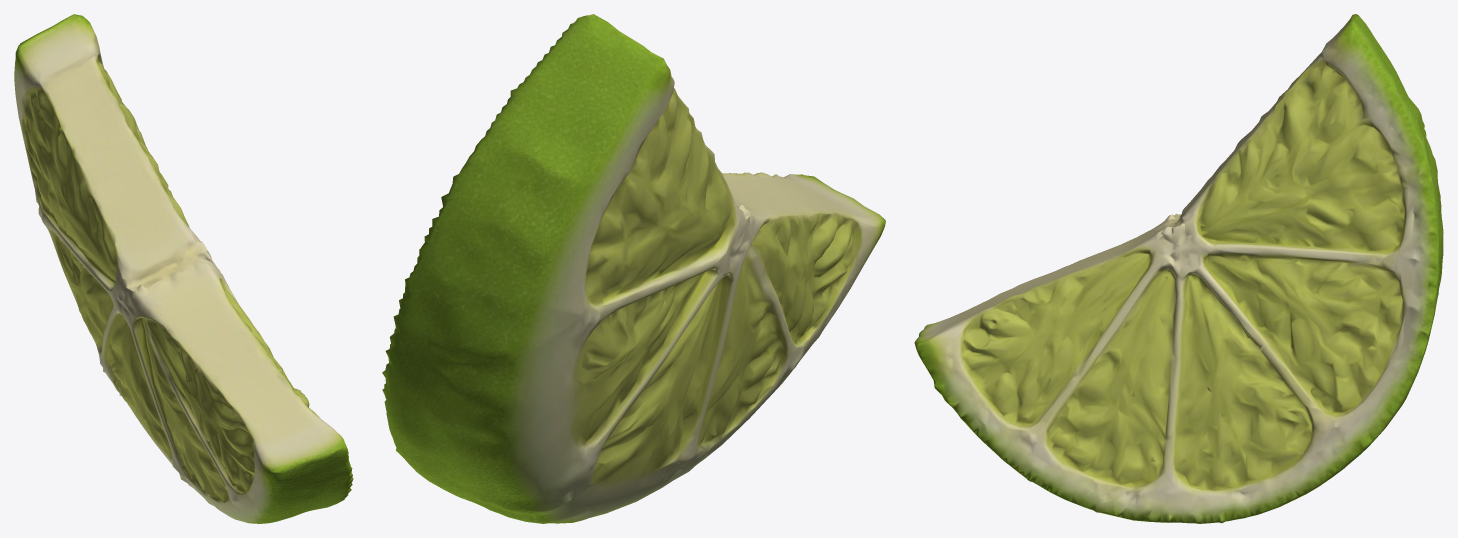
File: lime-wedge.glb
3 views of the same model, side by side, from view 1: azimuth 30°, elevation 25°; view 2: azimuth 150°, elevation 25°; view 3: azimuth 270°, elevation 25° (orthographic). The views are drawn at different scales.
Parts seen in each view (by area): view 1: tripo_node_a9222e3b-f244-4cd1-97fb-97b4acea8443; view 2: tripo_node_a9222e3b-f244-4cd1-97fb-97b4acea8443; view 3: tripo_node_a9222e3b-f244-4cd1-97fb-97b4acea8443.
Part boxes in pixels (x1=…): tripo_node_a9222e3b-f244-4cd1-97fb-97b4acea8443: x1=14, y1=14, x2=353, y2=523; tripo_node_a9222e3b-f244-4cd1-97fb-97b4acea8443: x1=382, y1=14, x2=885, y2=523; tripo_node_a9222e3b-f244-4cd1-97fb-97b4acea8443: x1=914, y1=14, x2=1443, y2=523.
Size of the model in its own units: 0.4351 by 0.9066 by 0.9809.
Materials: 1 (1 with a texture image).
